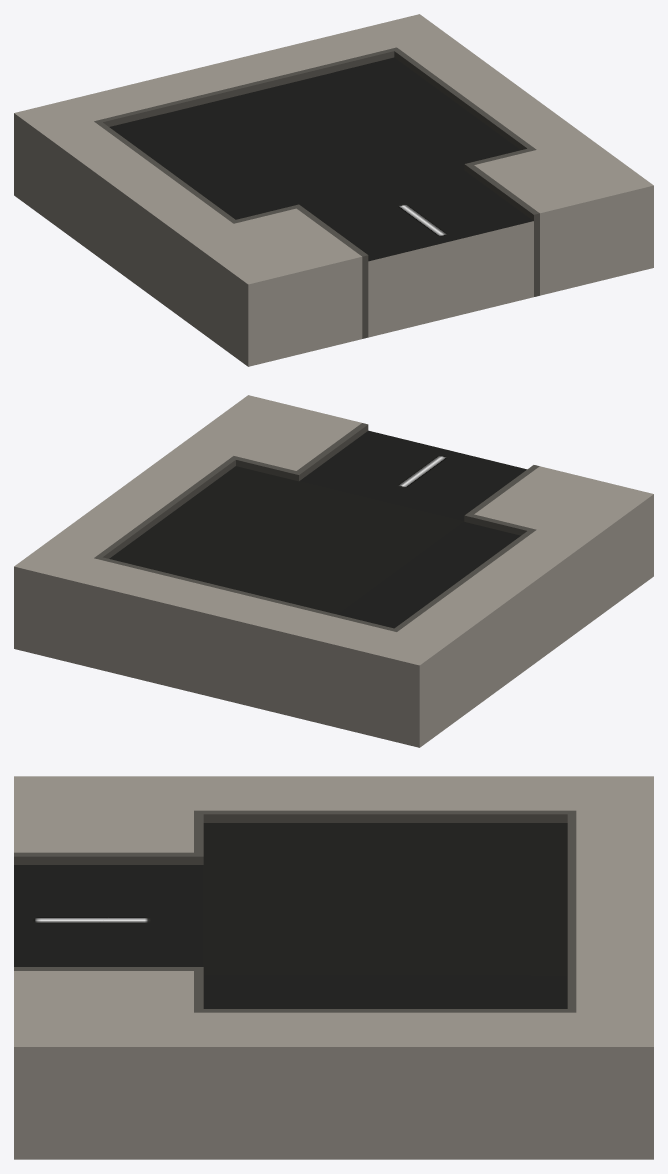
The model's file is Road_Road03.fbx.
The picture shows the model from 3 angles, top to bottom: view 1: azimuth 30°, elevation 25°; view 2: azimuth 150°, elevation 25°; view 3: azimuth 270°, elevation 25°; orthographic projection. The views are drawn at different scales.
Parts seen in each view (by area): view 1: Road_Road03; view 2: Road_Road03; view 3: Road_Road03.
Part boxes in pixels (box(x1,y1,x2,y2)): Road_Road03: box(14, 14, 653, 366); Road_Road03: box(14, 395, 653, 747); Road_Road03: box(14, 776, 653, 1159).
Size of the model in its own units: 1696 by 329 by 1696.
